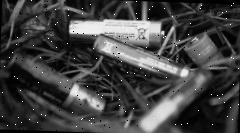electronic: (66, 13, 207, 88)
